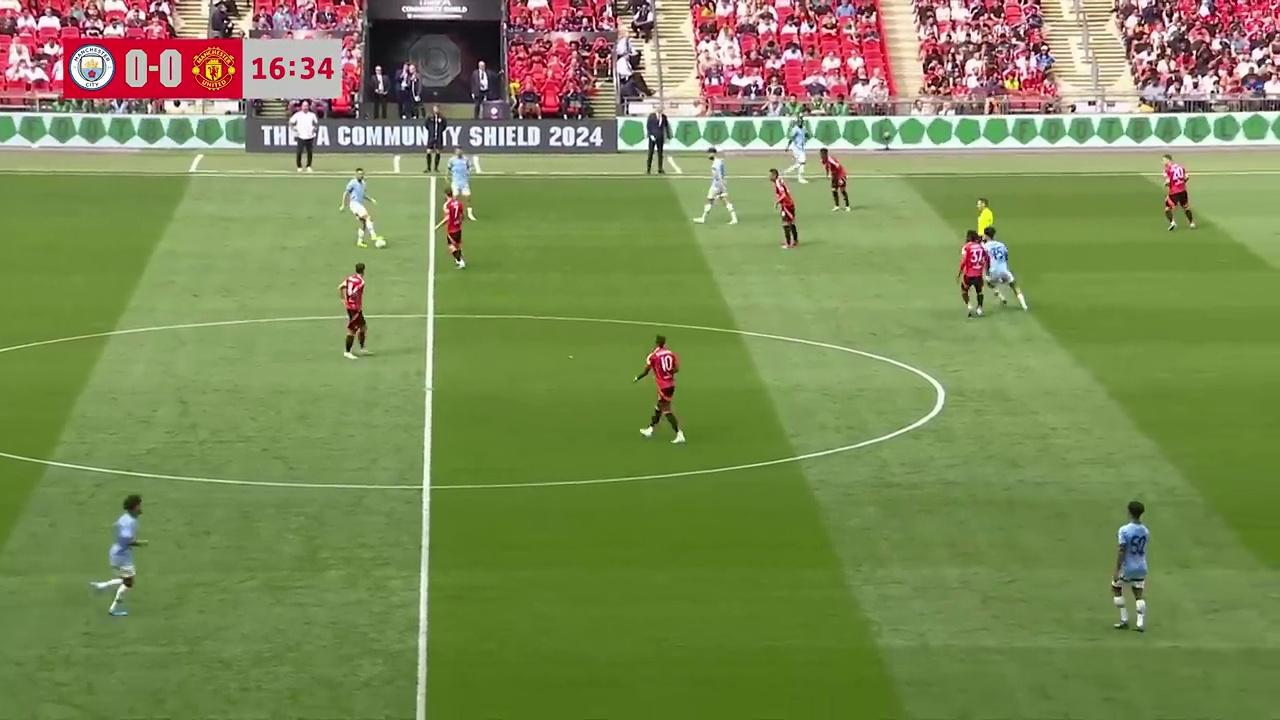ball: (373, 235, 387, 250)
player: (632, 334, 687, 444), (1111, 500, 1150, 633), (104, 495, 144, 617), (978, 230, 1027, 312), (339, 168, 381, 249), (698, 151, 737, 224), (338, 262, 367, 358), (956, 230, 986, 316), (1162, 156, 1196, 230), (770, 169, 798, 249), (440, 191, 465, 269), (818, 149, 849, 207), (449, 150, 473, 214), (823, 156, 850, 211), (789, 131, 811, 182)
referee: (973, 197, 999, 259)
